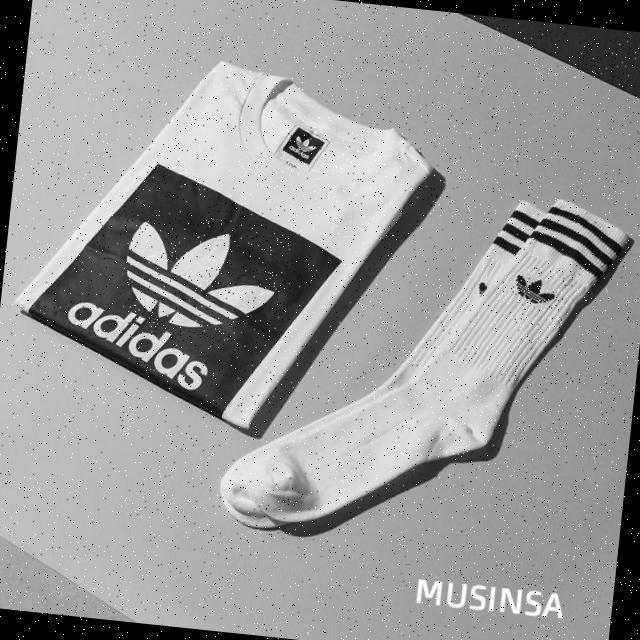Adidas: (113, 209, 292, 351), (502, 263, 567, 324), (282, 122, 334, 167)
